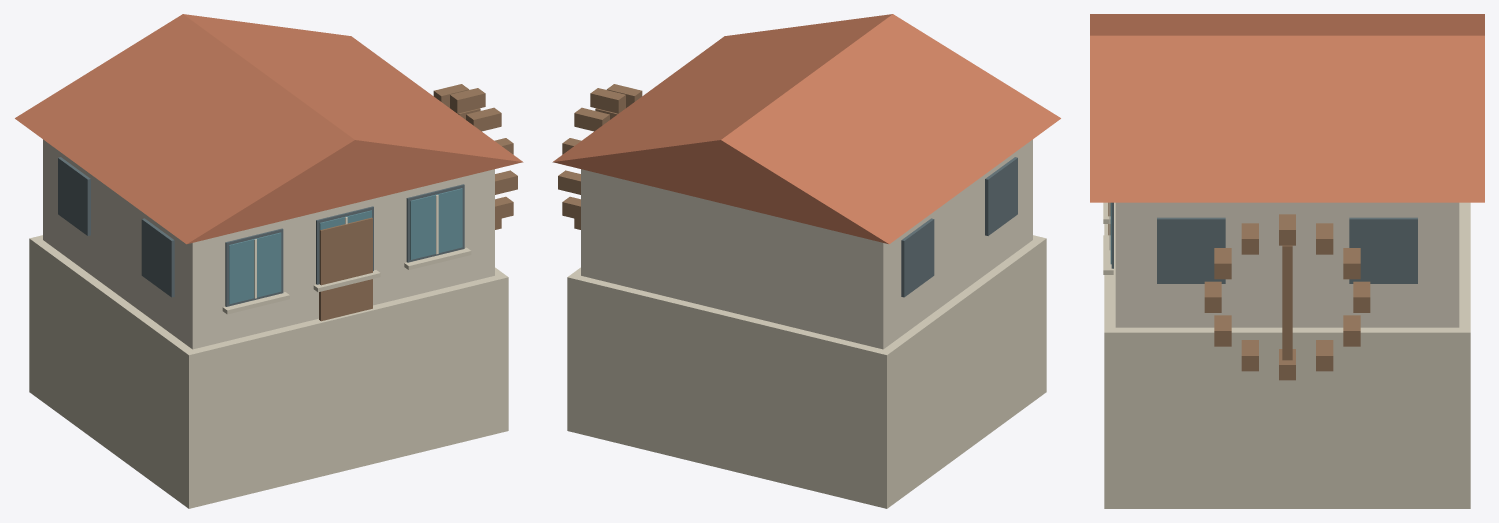
The model's file is watermill.glb.
3 views of the same model, side by side, from view 1: azimuth 30°, elevation 25°; view 2: azimuth 150°, elevation 25°; view 3: azimuth 270°, elevation 25° (orthographic). The views are drawn at different scales.
Bounding box in the file's own units: 8.83 × 7.4 × 6.9.
